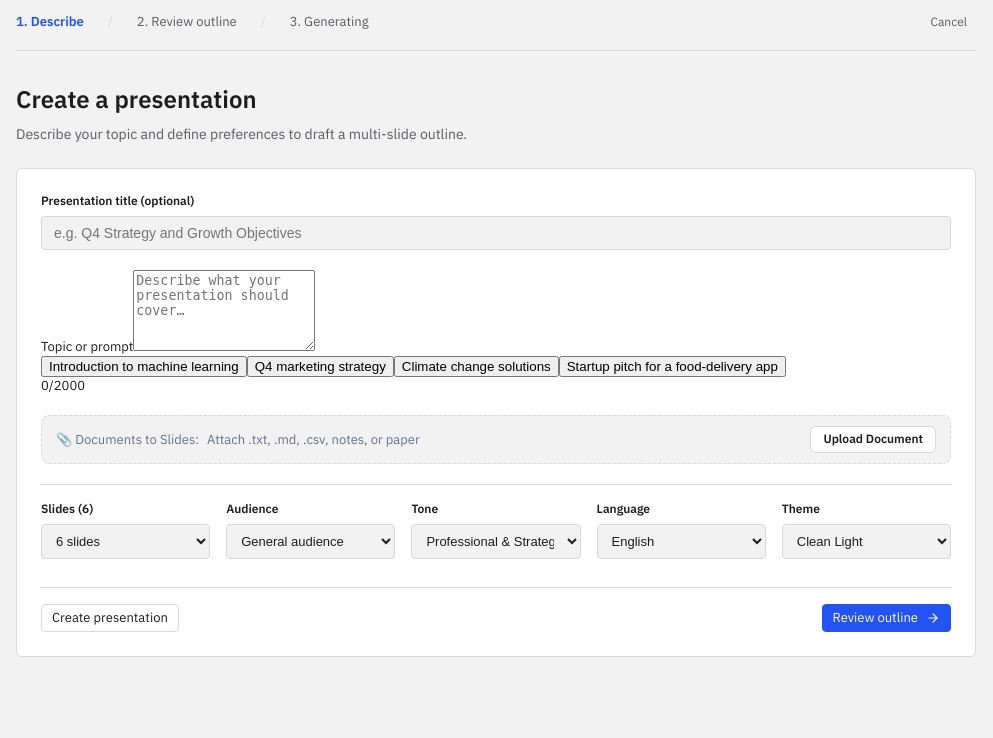
Test: shows the server error when creation fails
Expected: the text box labelled "Topic or prompt" is shown, [133,270,315,351]
In the field labelled "Presentation title (optional)": (496, 233) [41,216,951,250], type "Broken"
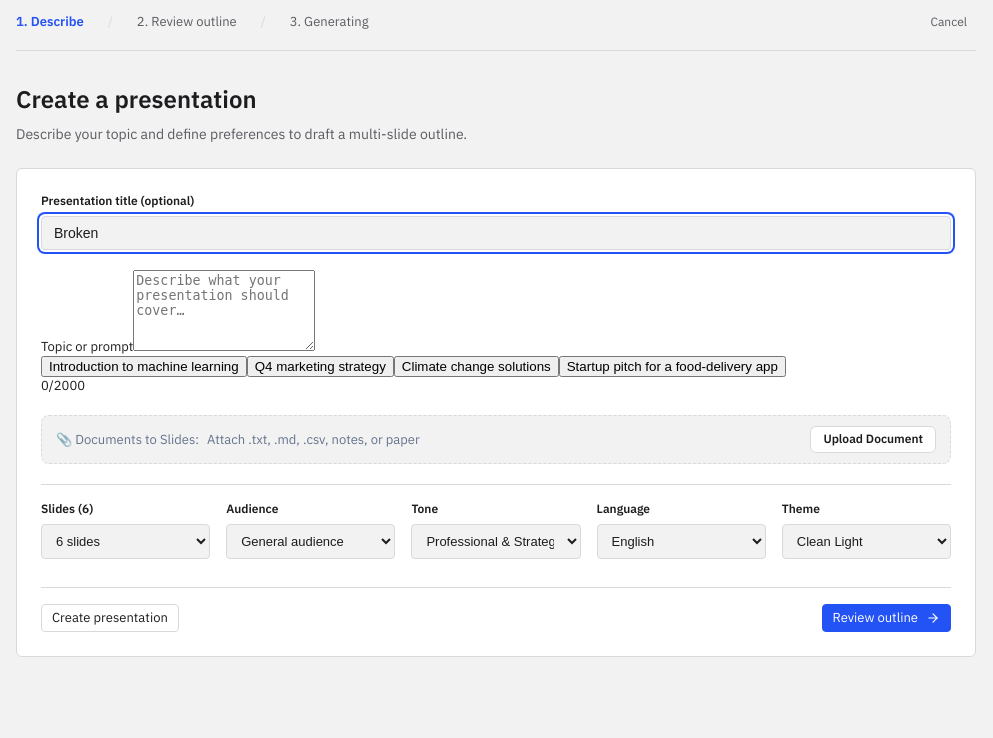
Click the button "Create presentation": (110, 618) [41,604,179,632]
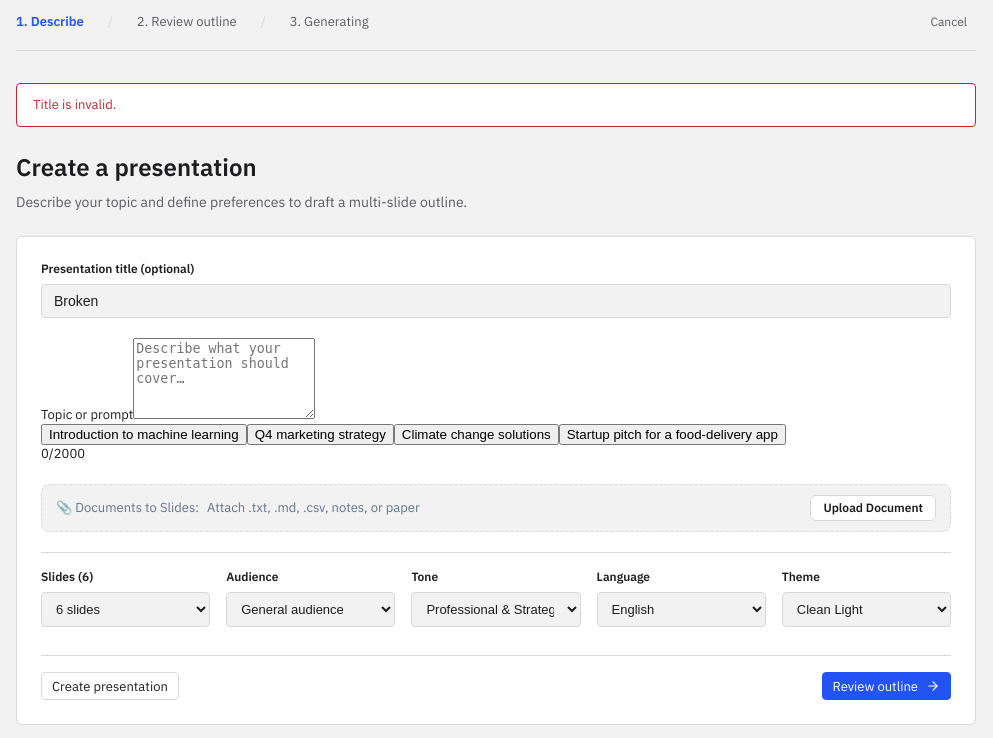
Expected: the message reads "Title is invalid.", [33,96,116,113]
